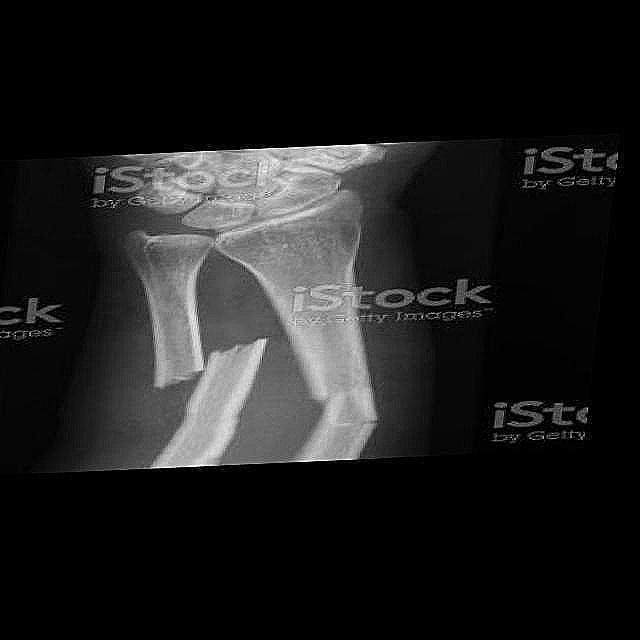bone: (143, 331, 269, 396), (311, 370, 382, 448)
